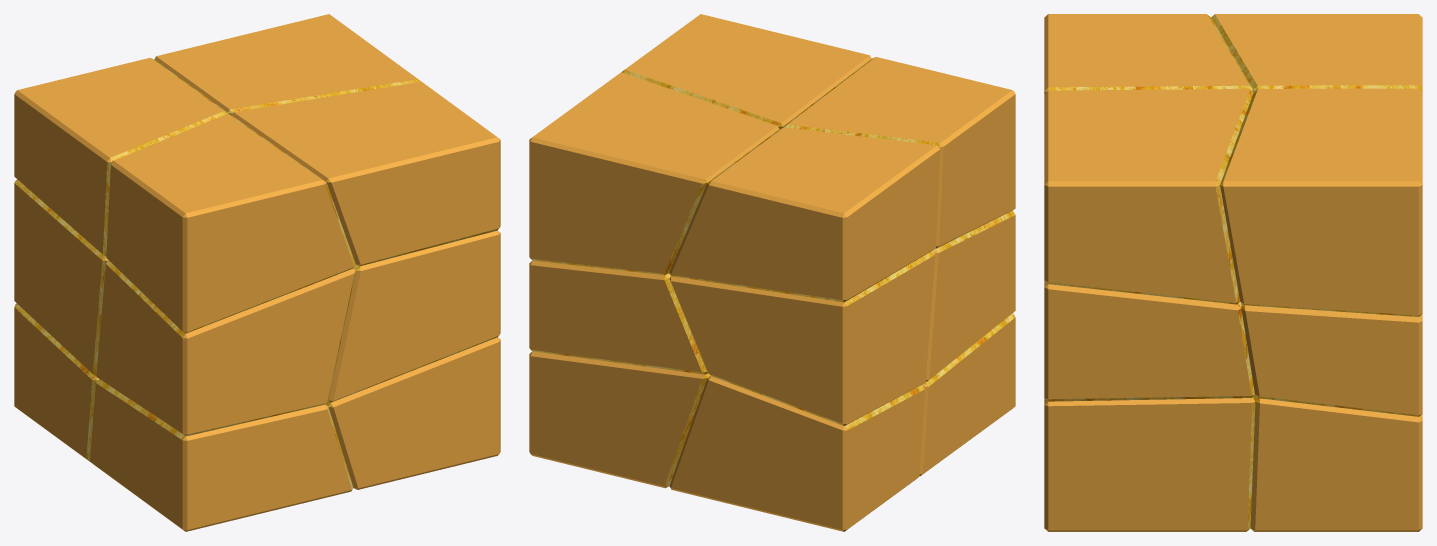
File: butter_rice_cake-broken.glb
The picture shows the model from 3 angles, left to right: view 1: azimuth 30°, elevation 25°; view 2: azimuth 150°, elevation 25°; view 3: azimuth 270°, elevation 25°; orthographic projection. The views are drawn at different scales.
Visible parts, largest first — view 1: fragment_08, fragment_09, fragment_04, fragment_00, fragment_10, fragment_05, fragment_01, fragment_11, fragment_06, fragment_02; view 2: fragment_10, fragment_11, fragment_06, fragment_02, fragment_08, fragment_03, fragment_09, fragment_07, fragment_04, fragment_00; view 3: fragment_11, fragment_09, fragment_01, fragment_05, fragment_03, fragment_07, fragment_10, fragment_08.
Boxes of the visible parts, <box> form: fragment_08: <box>106,113,355,333</box>; fragment_09: <box>232,81,500,266</box>; fragment_04: <box>96,260,355,436</box>; fragment_00: <box>90,379,353,531</box>; fragment_10: <box>14,58,228,256</box>; fragment_05: <box>328,230,500,402</box>; fragment_01: <box>326,337,500,489</box>; fragment_11: <box>154,14,420,115</box>; fragment_06: <box>14,179,107,375</box>; fragment_02: <box>14,303,98,461</box>; fragment_10: <box>669,127,940,302</box>; fragment_11: <box>529,72,779,275</box>; fragment_06: <box>669,251,935,425</box>; fragment_02: <box>669,376,925,531</box>; fragment_08: <box>782,57,1015,248</box>; fragment_03: <box>529,351,710,488</box>; fragment_09: <box>622,14,871,128</box>; fragment_07: <box>529,260,707,374</box>; fragment_04: <box>926,210,1015,381</box>; fragment_00: <box>919,313,1015,476</box>; fragment_11: <box>1220,88,1422,316</box>; fragment_09: <box>1044,89,1253,304</box>; fragment_01: <box>1044,397,1255,531</box>; fragment_05: <box>1044,280,1254,401</box>; fragment_03: <box>1250,395,1422,531</box>; fragment_07: <box>1241,302,1422,416</box>; fragment_10: <box>1211,14,1422,92</box>; fragment_08: <box>1044,14,1252,94</box>.
Size of the model in its own units: 1.88 by 1.8 by 1.76.
2 materials, 1 textured.
